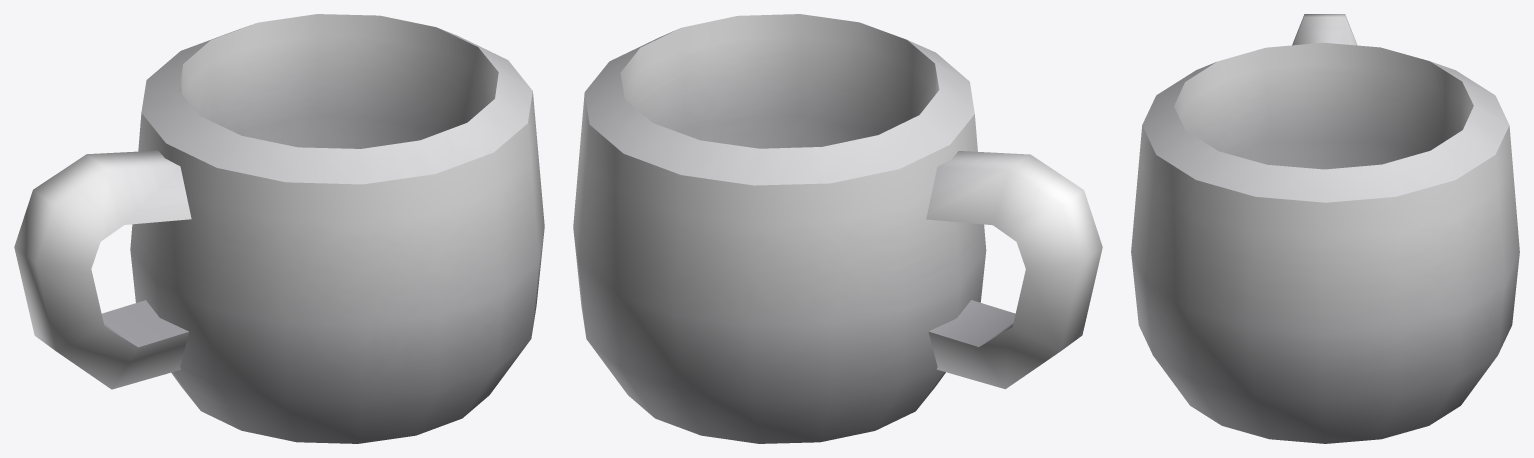
Rendered from m_EspressoCup01.fbx.
The picture shows the model from 3 angles, left to right: view 1: azimuth 30°, elevation 25°; view 2: azimuth 150°, elevation 25°; view 3: azimuth 270°, elevation 25°; orthographic projection. The views are drawn at different scales.
Visible parts, largest first — view 1: m_EspressoCup01; view 2: m_EspressoCup01; view 3: m_EspressoCup01.
Part boxes in pixels (x1=…): m_EspressoCup01: x1=14, y1=14, x2=544, y2=443; m_EspressoCup01: x1=573, y1=14, x2=1102, y2=443; m_EspressoCup01: x1=1131, y1=14, x2=1519, y2=443.
Bounding box in the file's own units: 11.19 × 6.43 × 8.2.
